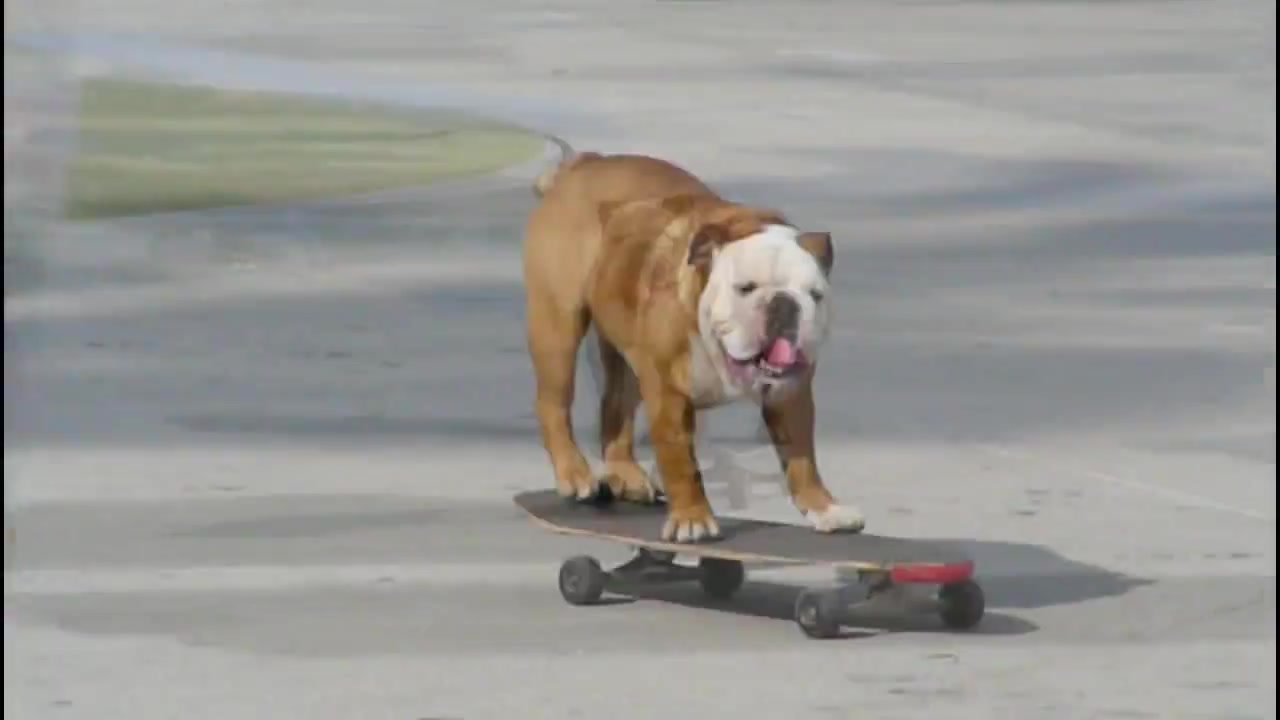dog: (519, 134, 869, 547)
